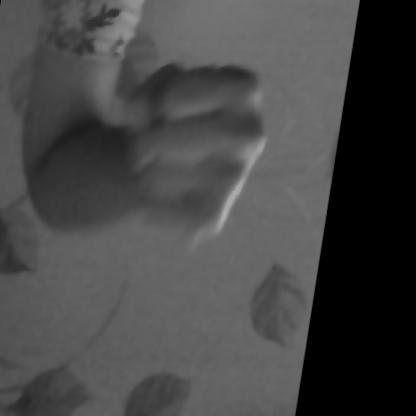fist: (0, 21, 320, 250)
